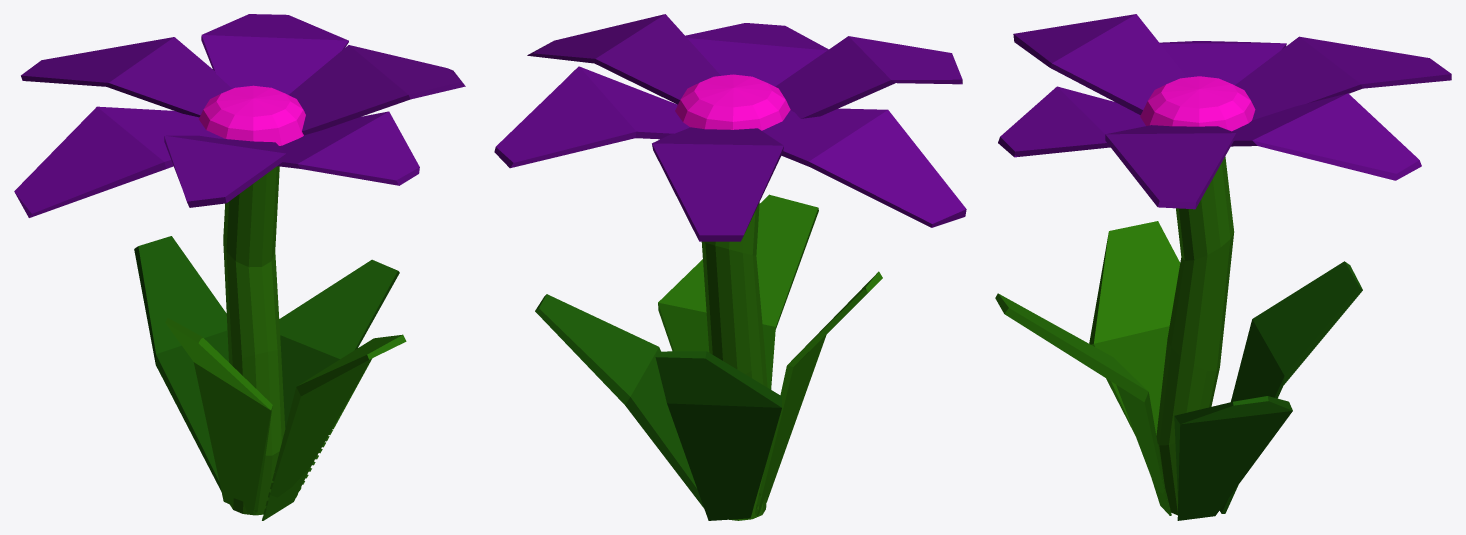
Rendered from Flower.fbx.
3 views of the same model, side by side, from view 1: azimuth 30°, elevation 25°; view 2: azimuth 150°, elevation 25°; view 3: azimuth 270°, elevation 25° (orthographic). The views are drawn at different scales.
Parts seen in each view (by area): view 1: Cube.013; view 2: Cube.013; view 3: Cube.013.
Boxes of the visible parts, left/top/right/bottom form: Cube.013: left=14, top=14, right=465, bottom=520; Cube.013: left=494, top=14, right=966, bottom=520; Cube.013: left=995, top=14, right=1451, bottom=520.
Bounding box in the file's own units: 186 × 178 × 169.
